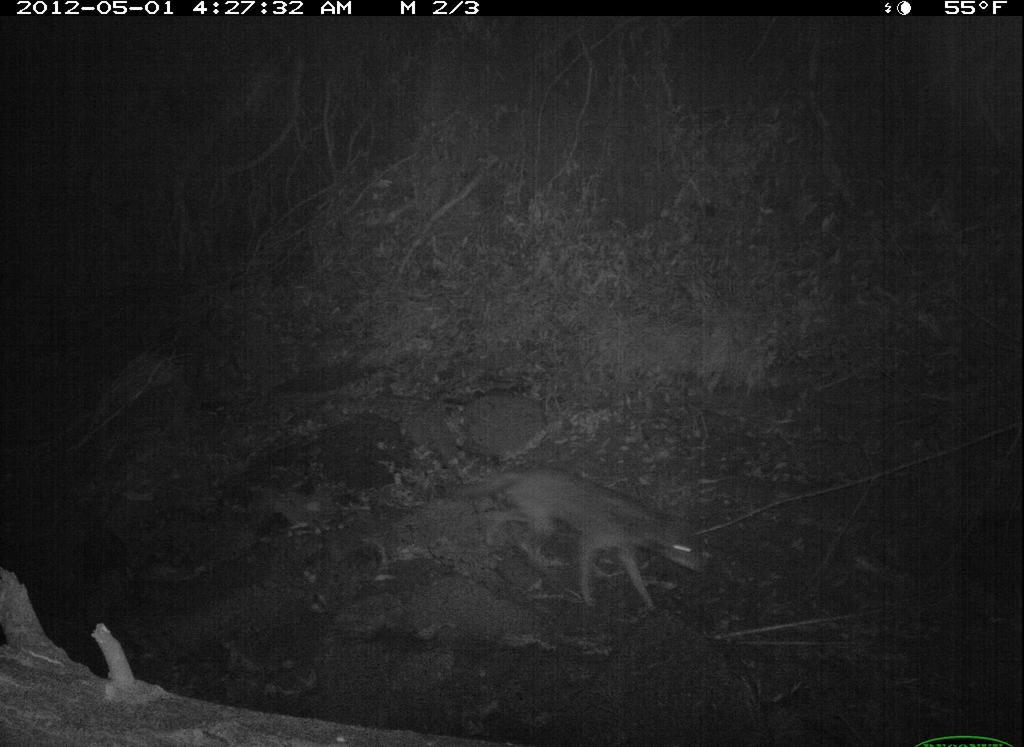coyote: (454, 452, 720, 619)
